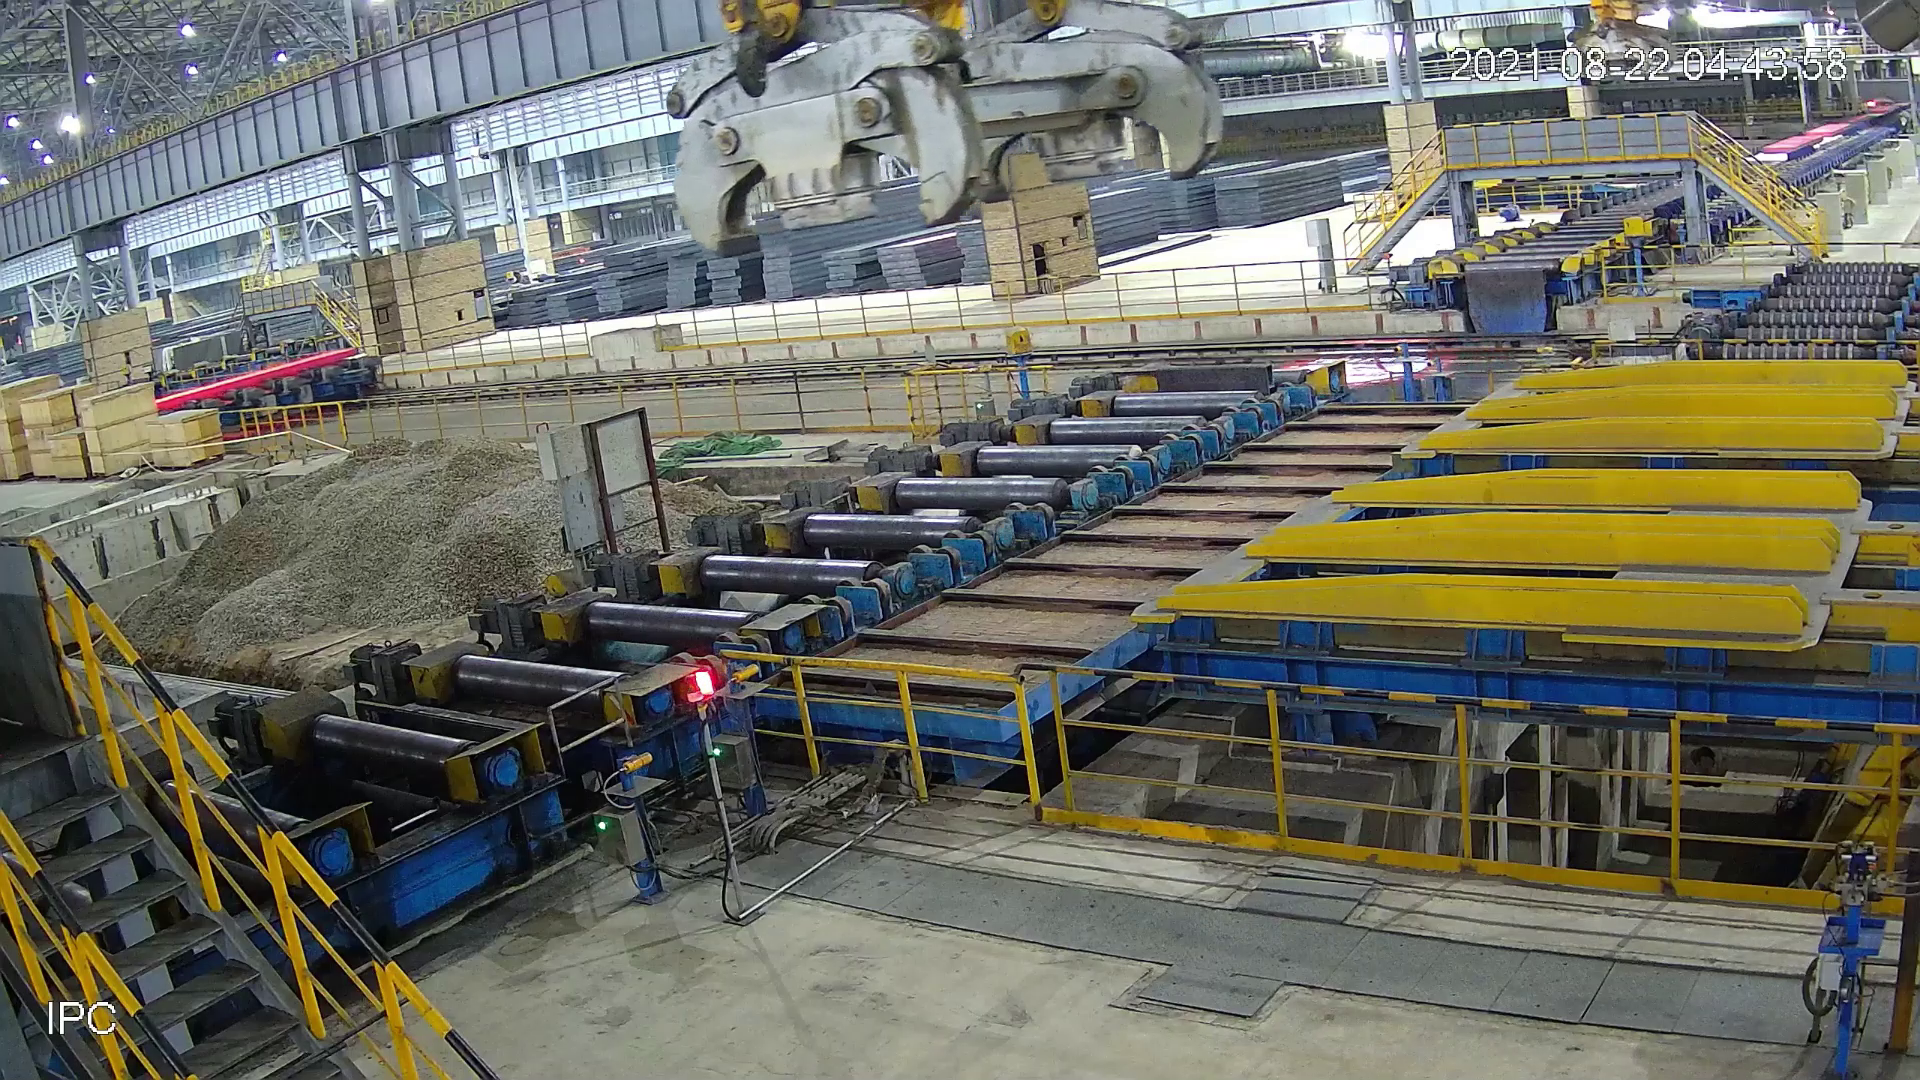crane: (654, 1, 1221, 260), (1560, 1, 1684, 86)
